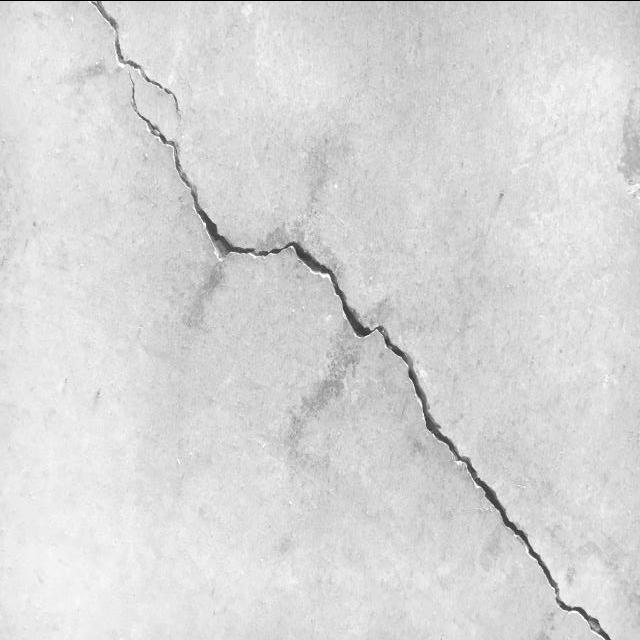SurfaceCrack: (0, 0, 637, 638)
